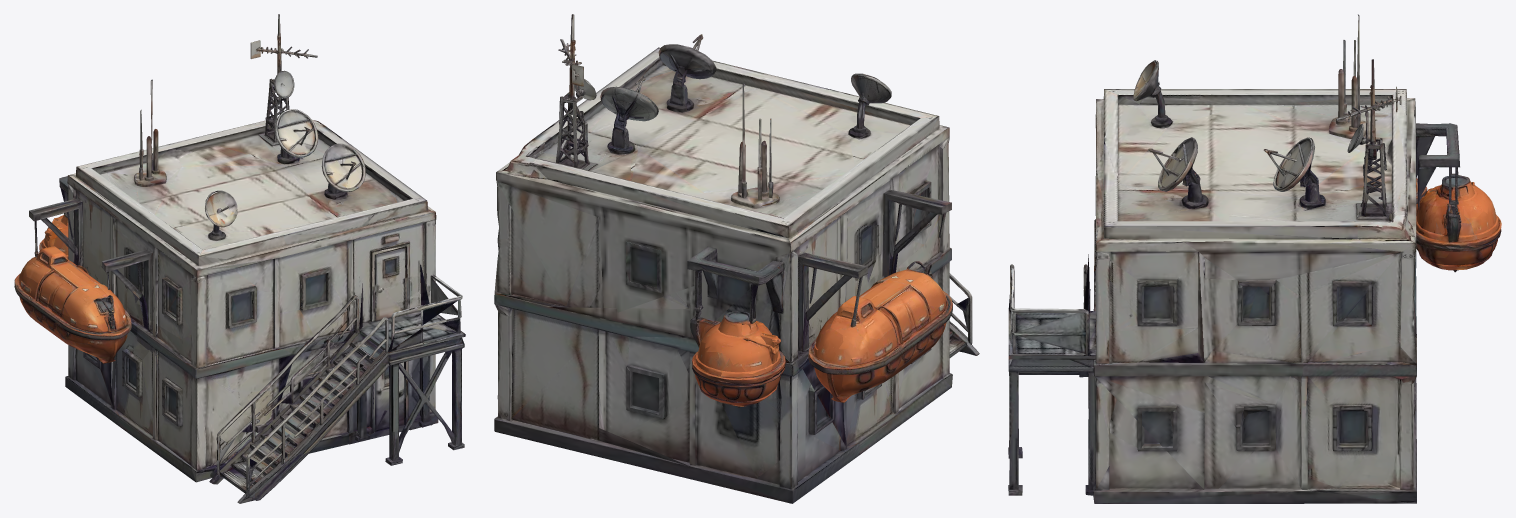
Rendered from living_quarters.glb.
3 renders of one model, left to right at view 1: azimuth 30°, elevation 25°; view 2: azimuth 150°, elevation 25°; view 3: azimuth 270°, elevation 25°, orthographic. The views are drawn at different scales.
Bounding box in the file's own units: 1.68 × 1.79 × 1.9.
Materials: 1 (1 with a texture image).
